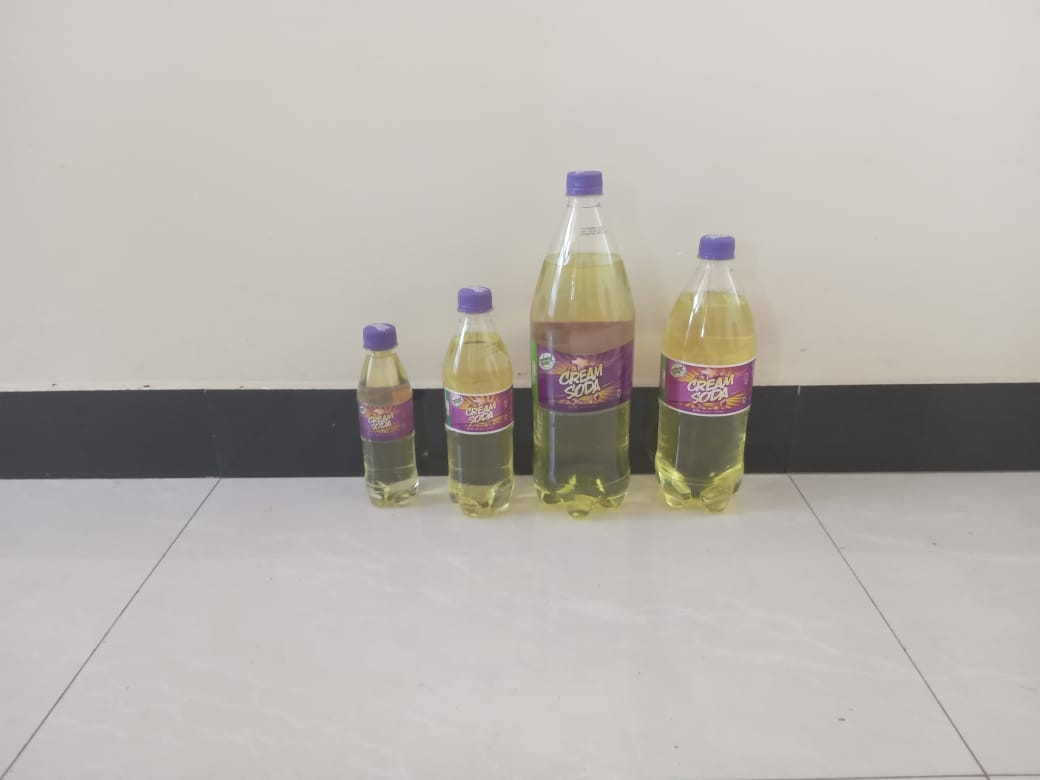L: (531, 169, 636, 518)
M: (654, 224, 759, 520)
S: (438, 287, 520, 518)
Xs: (345, 326, 424, 506)
